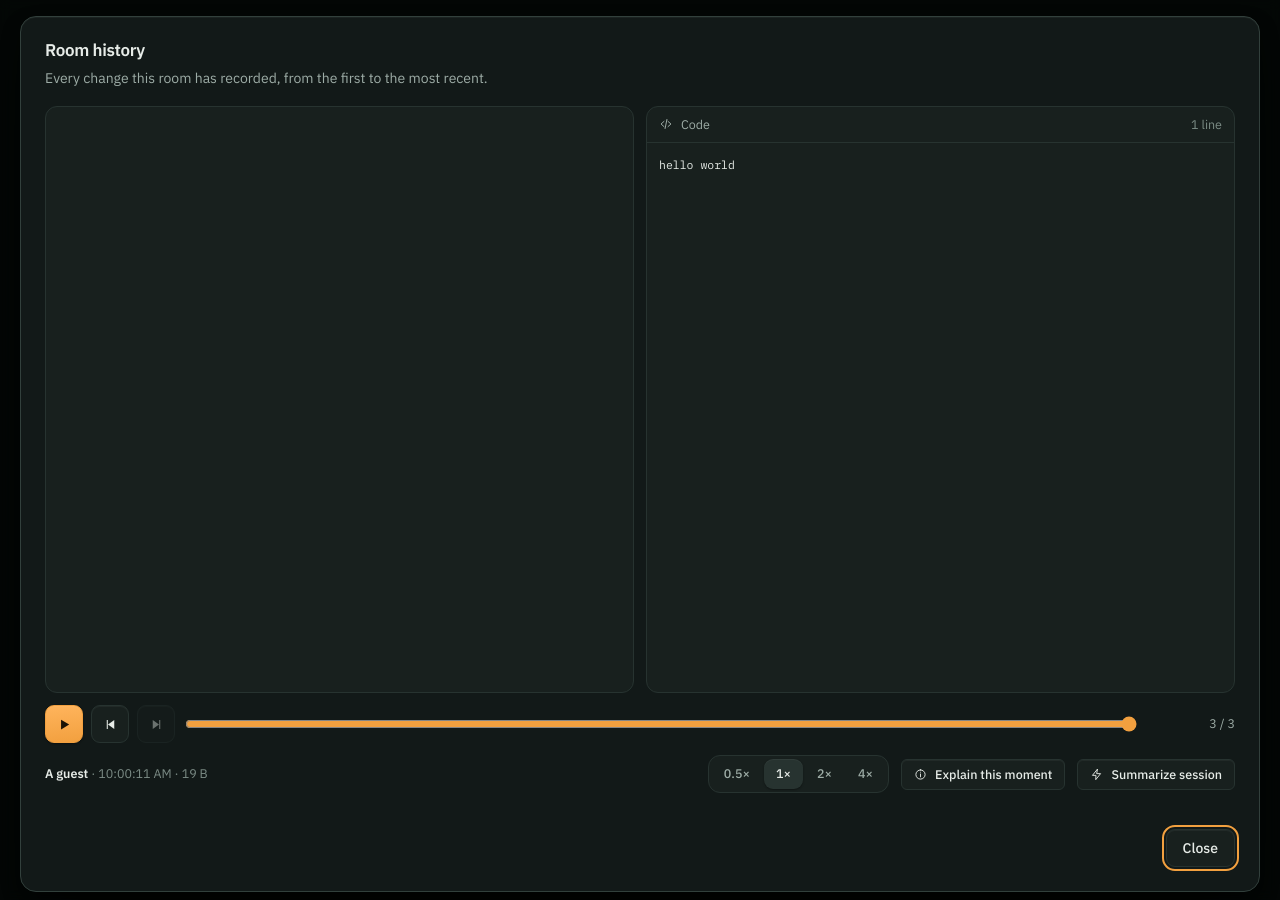
Scenario: ReplayViewer › steps one change at a time, and stops at both ends
Expected: the text "3 / 3" is shown, x1=1209 y1=715 x2=1235 y2=731
Expected: the button named "One change forward" is disabled, x1=137 y1=705 x2=175 y2=743
Click the button named "One change back" at (110, 724), box x1=91 y1=705 x2=129 y2=743
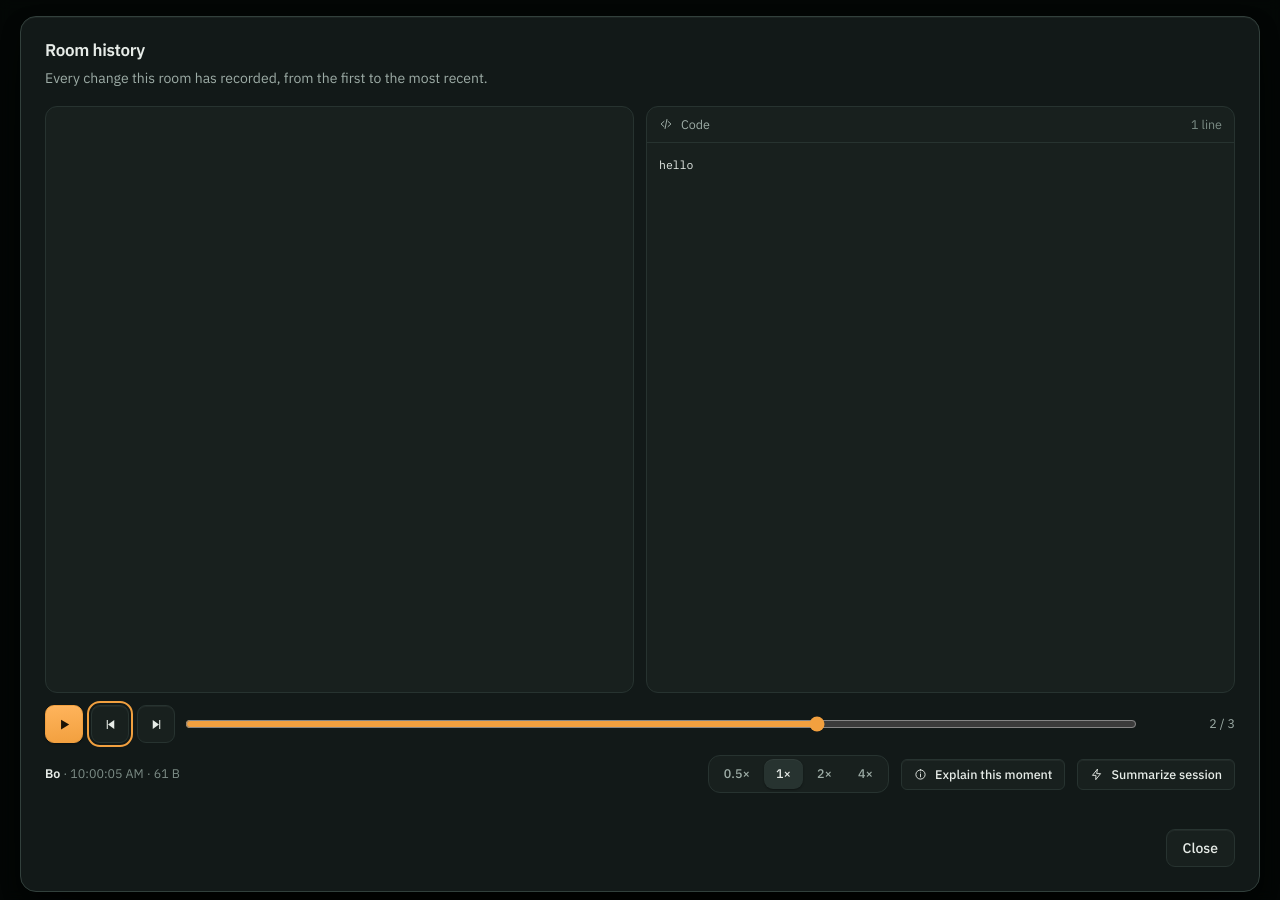
Expected: the button named "One change forward" is enabled, x1=137 y1=705 x2=175 y2=743
Click the button named "One change back" at (110, 724), box x1=91 y1=705 x2=129 y2=743
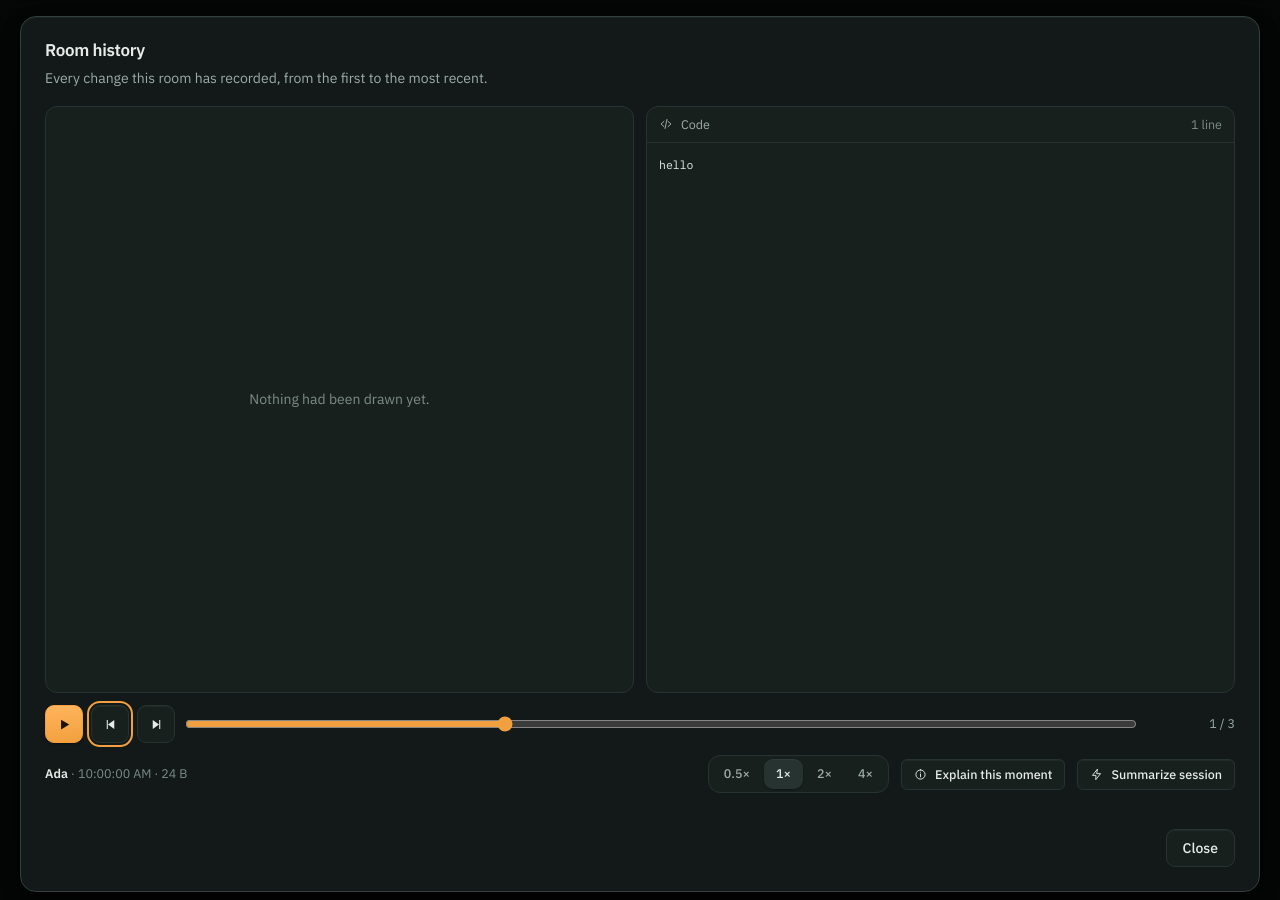
Click the button named "One change back" at (110, 724), box x1=91 y1=705 x2=129 y2=743
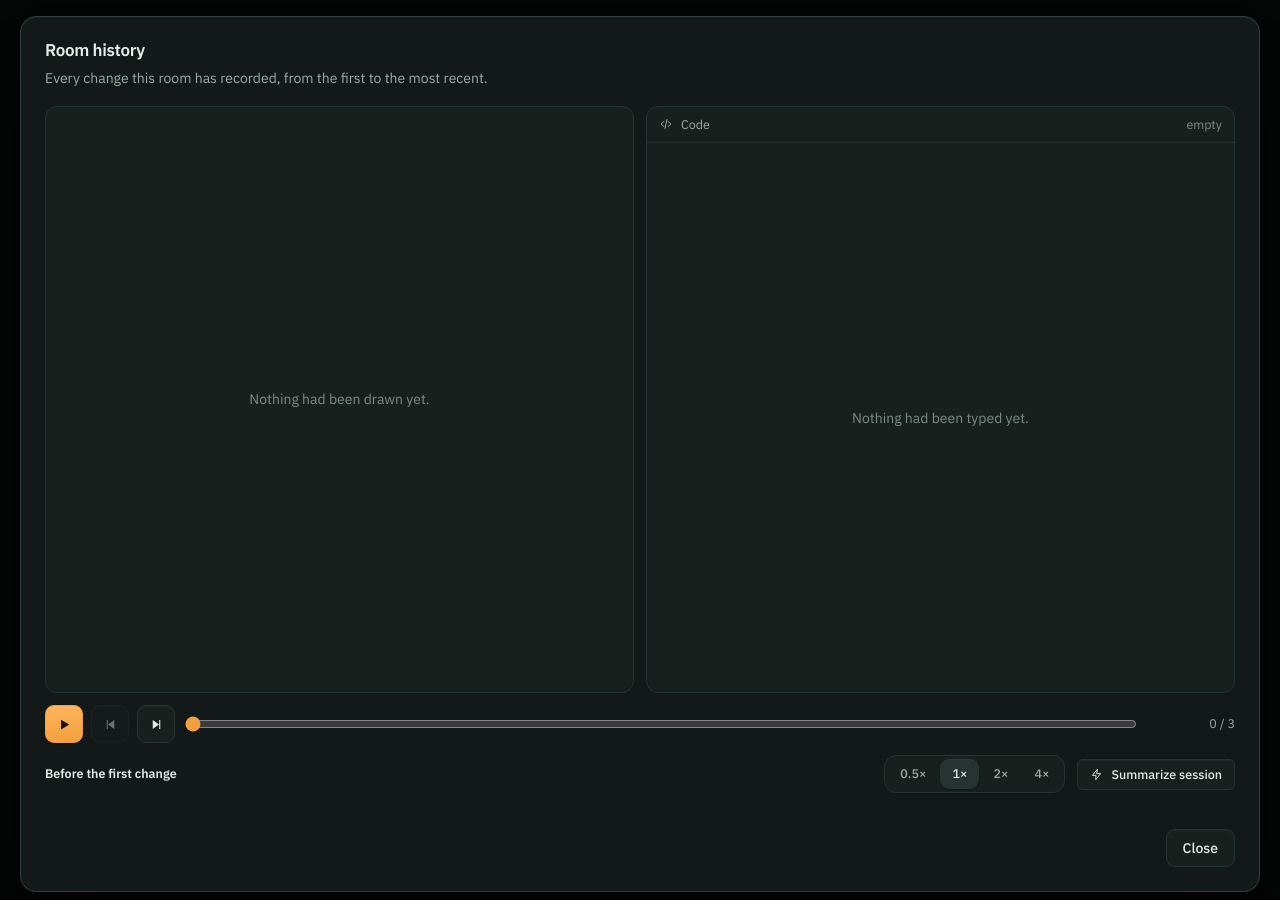
Expected: the text "0 / 3" is shown, x1=1209 y1=715 x2=1235 y2=731
Expected: the button named "One change back" is disabled, x1=91 y1=705 x2=129 y2=743
